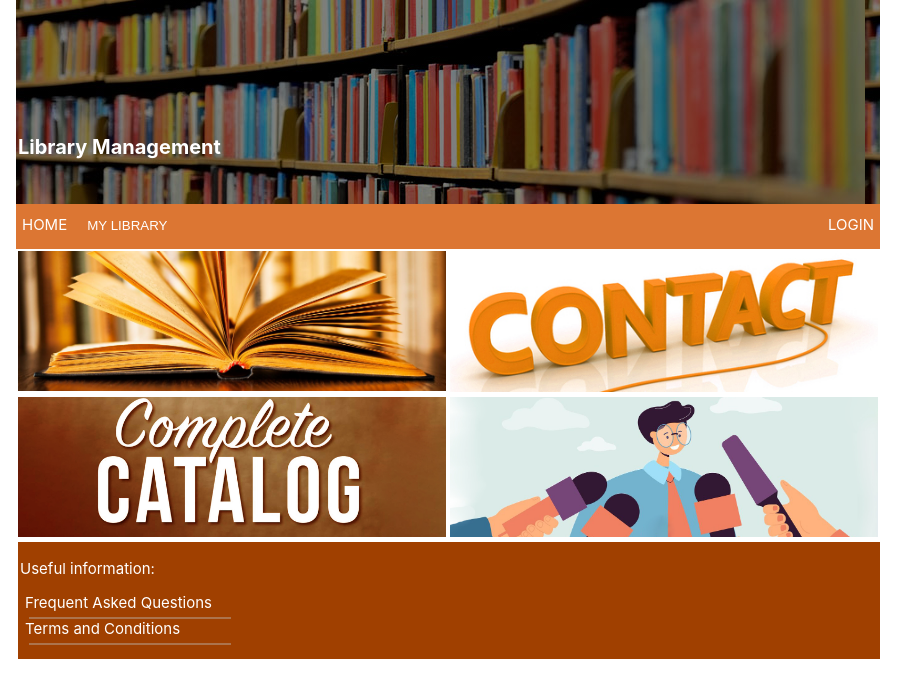
Test: Login tests › Given invalid username then it returns an error
Click the link "LOGIN" at (851, 224), box x1=828 y1=215 x2=874 y2=234
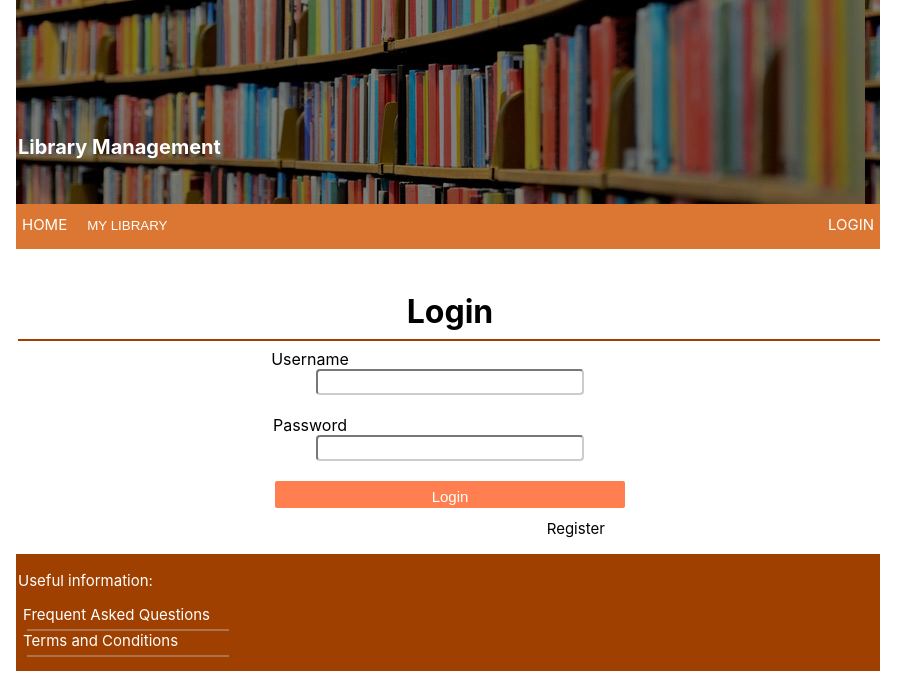
Type "luciangeos" into the field with test id "username" at (450, 382), box x1=316 y1=369 x2=584 y2=395
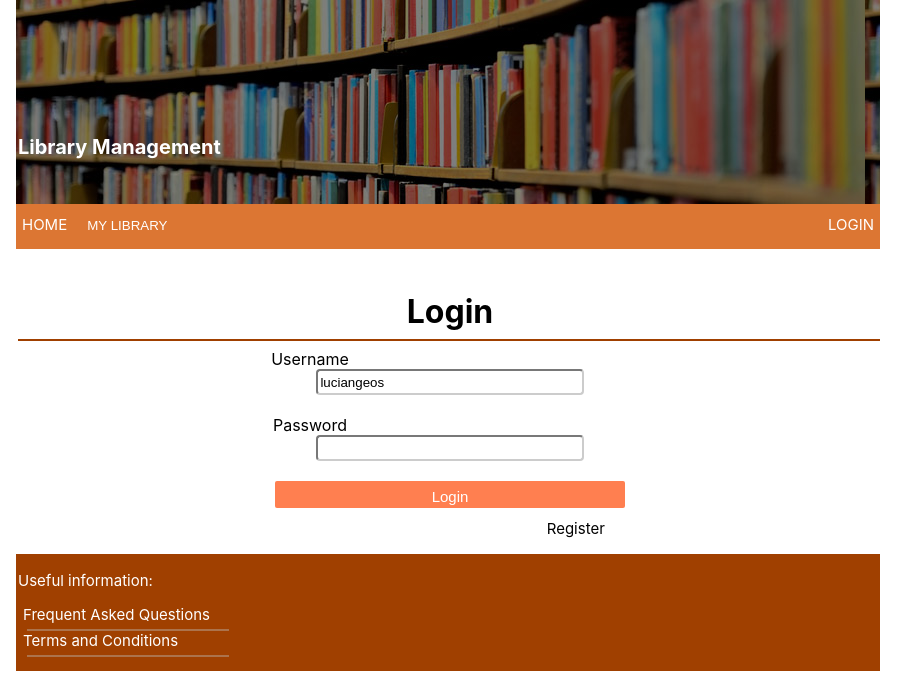
Type "luciangeo" into the password field with test id "password" at (450, 448), box x1=316 y1=435 x2=584 y2=461
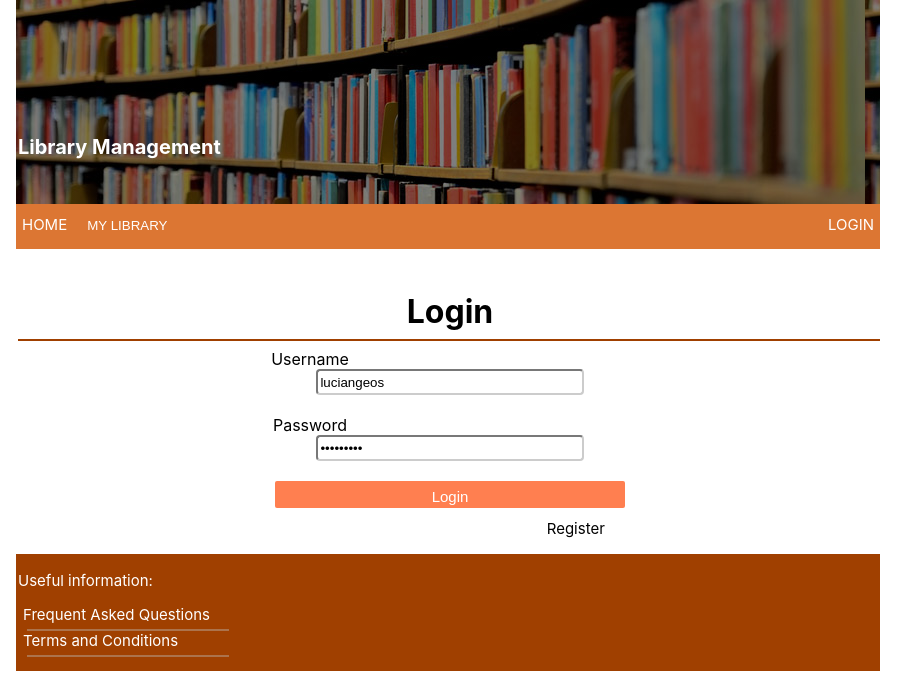
Submit the form from the button with test id "loginButton", box x1=275 y1=481 x2=625 y2=508
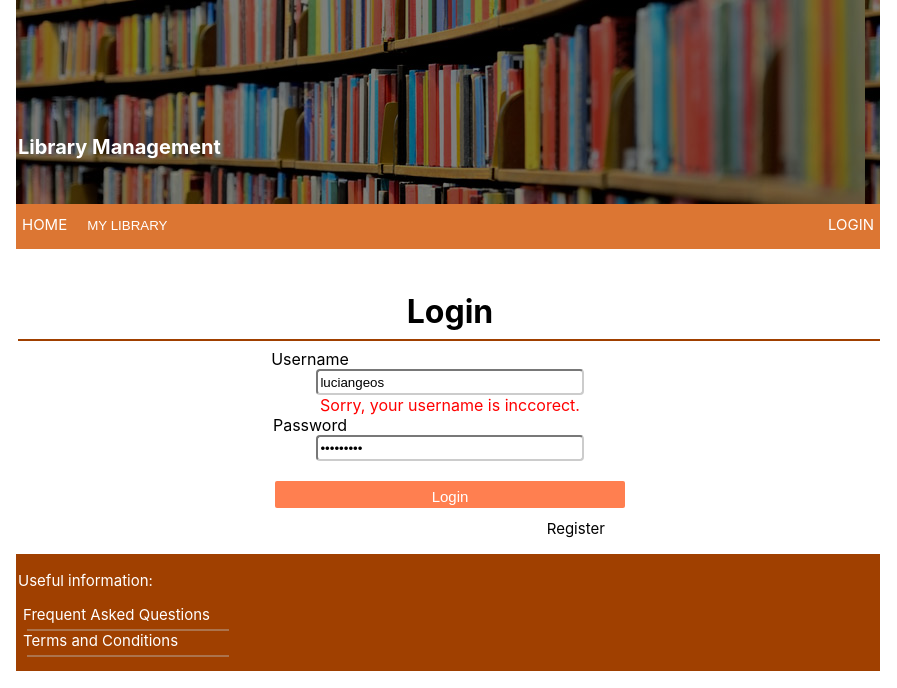
Expected: the text with test id "error" reads "Sorry, your username is inccorect.", x1=320 y1=395 x2=580 y2=415
